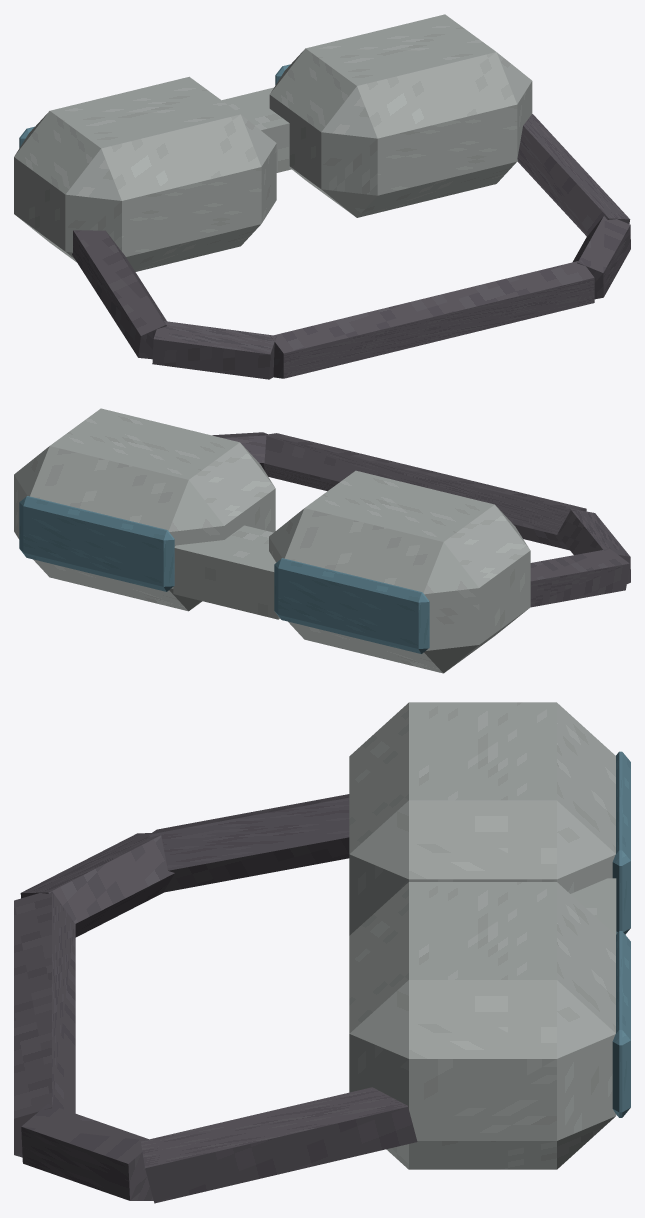
File: goggles_chem.glb
3 views of the same model, one above another, from view 1: azimuth 30°, elevation 25°; view 2: azimuth 150°, elevation 25°; view 3: azimuth 270°, elevation 25° (orthographic). The views are drawn at different scales.
Parts seen in each view (by area): view 1: block_eyepiece (×2), block_elastic back strap 2, block_elastic back strap 0, block_elastic back strap 1, block_elastic back strap 4, block_elastic back strap 3, block_bridge; view 2: block_eyepiece (×2), block_lens (×2), block_elastic back strap 2, block_bridge, block_elastic back strap 0, block_elastic back strap 1, block_elastic back strap 3; view 3: block_eyepiece (×2), block_elastic back strap 4, block_elastic back strap 2, block_elastic back strap 0, block_elastic back strap 3, block_elastic back strap 1, block_lens (×2), block_bridge.
Boxes of the visible parts, x1,y1,x2,y2 form: block_eyepiece (×2): [14, 14, 532, 271]; block_elastic back strap 2: [270, 260, 594, 378]; block_elastic back strap 0: [72, 230, 166, 359]; block_elastic back strap 1: [152, 321, 276, 379]; block_elastic back strap 4: [517, 114, 630, 236]; block_elastic back strap 3: [573, 216, 630, 299]; block_bridge: [222, 87, 292, 172]; block_eyepiece (×2): [14, 408, 530, 673]; block_lens (×2): [19, 496, 429, 653]; block_elastic back strap 2: [263, 433, 586, 550]; block_bridge: [173, 525, 279, 619]; block_elastic back strap 0: [530, 548, 629, 607]; block_elastic back strap 1: [557, 508, 630, 583]; block_elastic back strap 3: [212, 432, 270, 470]; block_eyepiece (×2): [349, 702, 616, 1169]; block_elastic back strap 4: [141, 1087, 417, 1203]; block_elastic back strap 2: [14, 889, 75, 1157]; block_elastic back strap 0: [149, 794, 349, 892]; block_elastic back strap 3: [21, 1104, 153, 1200]; block_elastic back strap 1: [20, 833, 174, 937]; block_lens (×2): [612, 751, 630, 1117]; block_bridge: [570, 878, 616, 934].
Bounding box in the file's own units: 0.1437 × 0.0421 × 0.11.
Materials: 1 (1 with a texture image).
